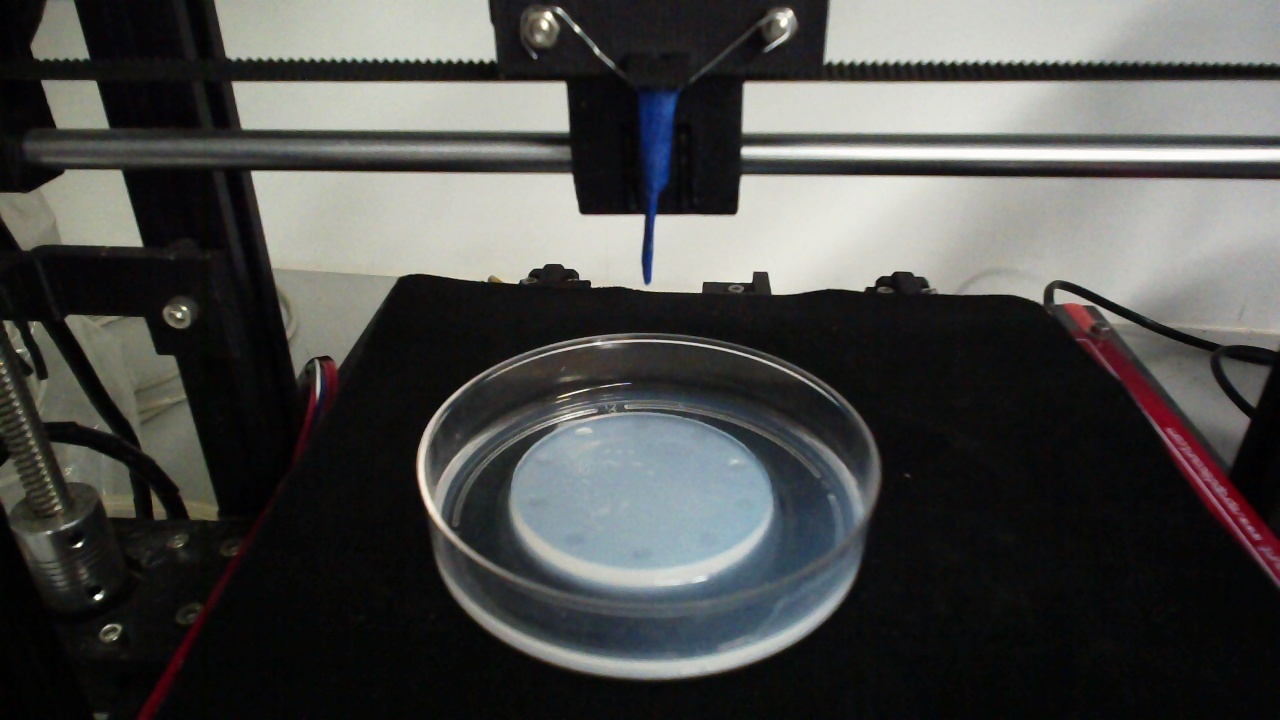groove: (696, 530, 724, 548), (560, 529, 586, 547), (731, 495, 754, 513), (629, 546, 653, 561), (525, 492, 547, 508), (727, 458, 749, 474), (630, 419, 652, 433), (532, 454, 553, 468), (574, 426, 594, 439), (689, 429, 708, 442)
needle: (642, 93, 678, 285)
